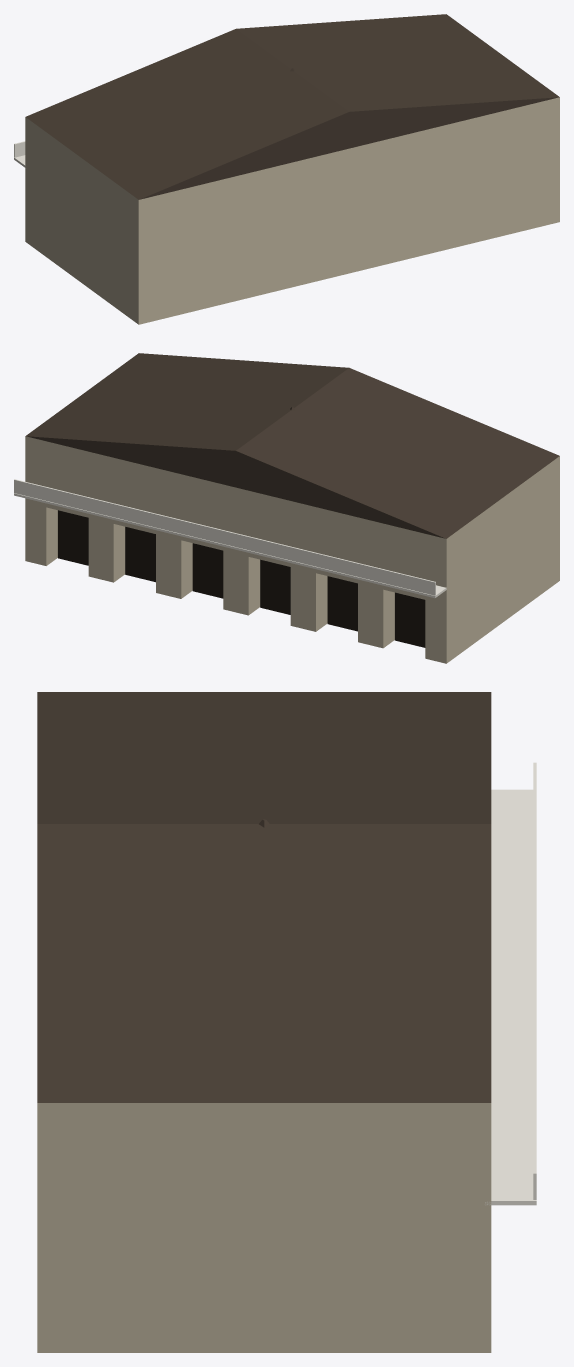
The model's file is b01-boathouse-new-england.glb.
3 renders of one model, top to bottom at view 1: azimuth 30°, elevation 25°; view 2: azimuth 150°, elevation 25°; view 3: azimuth 270°, elevation 25°, orthographic. The views are drawn at different scales.
Parts seen in each view (by area): view 1: part4, part0, part2; view 2: part4, part2, part0, part1, part3; view 3: part4, part0, part2, part3.
Boxes of the visible parts, x1,y1,x2,y2 form: part4: (26,14,559,199); part0: (25,148,559,324); part2: (25,97,559,251); part4: (25,353,559,538); part2: (25,436,559,590); part0: (25,498,559,663); part1: (58,510,425,647); part3: (14,479,446,598); part4: (37,692,491,1102); part0: (37,1206,491,1352); part2: (37,1103,491,1205); part3: (485,762,536,1205).
Size of the model in its own units: 30000 by 11150 by 15400.
